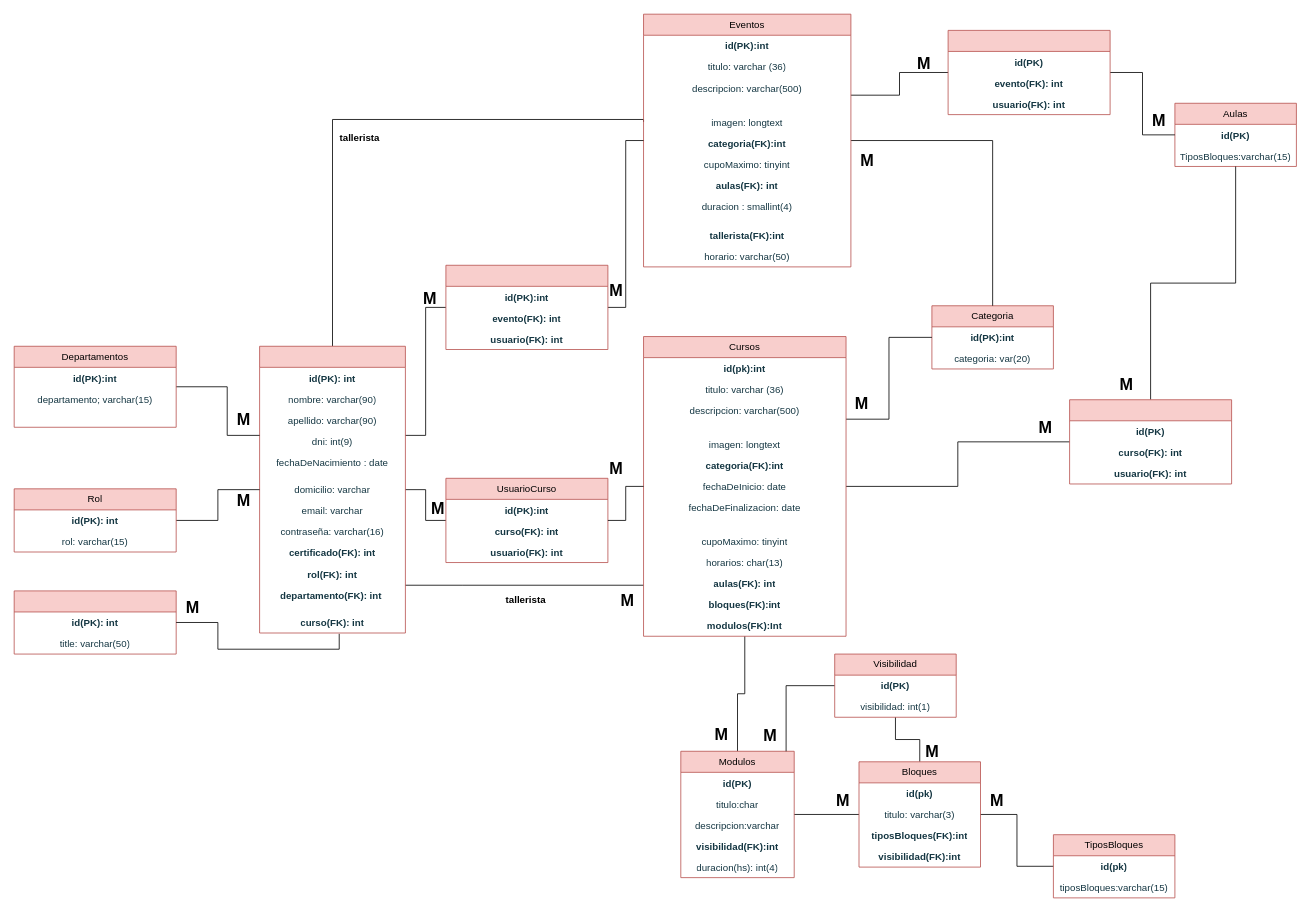
Image size: 1311x914. Some labels were removed from this diagram. The shapes that lost their labels are listed below. From the top down, each one's box as (x1, y1, x2, y2) in pixels, then its label:
(947, 30, 1110, 115): EventoAula
(445, 264, 608, 350): UsuarioEvento
(1069, 399, 1232, 484): CursoAula
(259, 345, 405, 633): Usuario
(13, 590, 176, 654): Certificado
